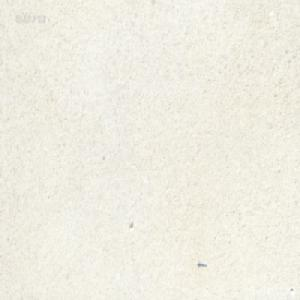Nail: (197, 261, 206, 267)
